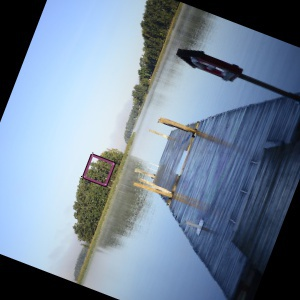square: (82, 152, 117, 188)
